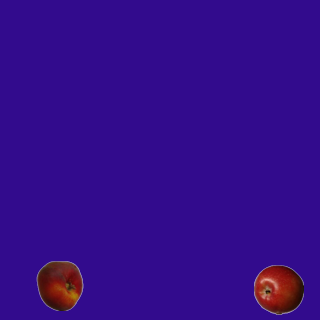Apple Braeburn: (253, 264, 303, 314)
Nectarine Flat: (34, 260, 84, 310)
